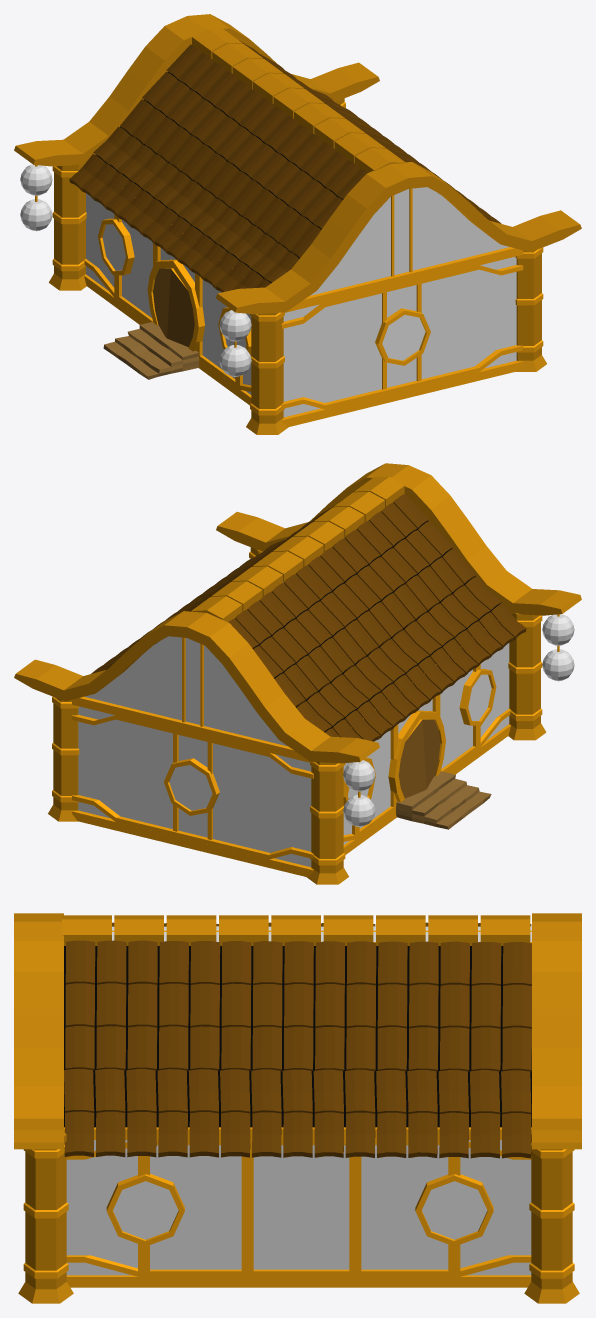
The model's file is House03.fbx.
3 renders of one model, top to bottom at view 1: azimuth 30°, elevation 25°; view 2: azimuth 150°, elevation 25°; view 3: azimuth 270°, elevation 25°, orthographic. The views are drawn at different scales.
Parts seen in each view (by area): view 1: House.002, Telhado.002; view 2: House.002, Telhado.002; view 3: Telhado.002, House.002.
Part boxes in pixels (<box>): House.002: <box>20,72,546,434</box>; Telhado.002: <box>14,14,581,314</box>; House.002: <box>48,521,574,884</box>; Telhado.002: <box>14,463,581,763</box>; Telhado.002: <box>14,913,581,1158</box>; House.002: <box>18,926,579,1303</box>.
Bounding box in the file's own units: 5.93 × 3.72 × 6.52.
